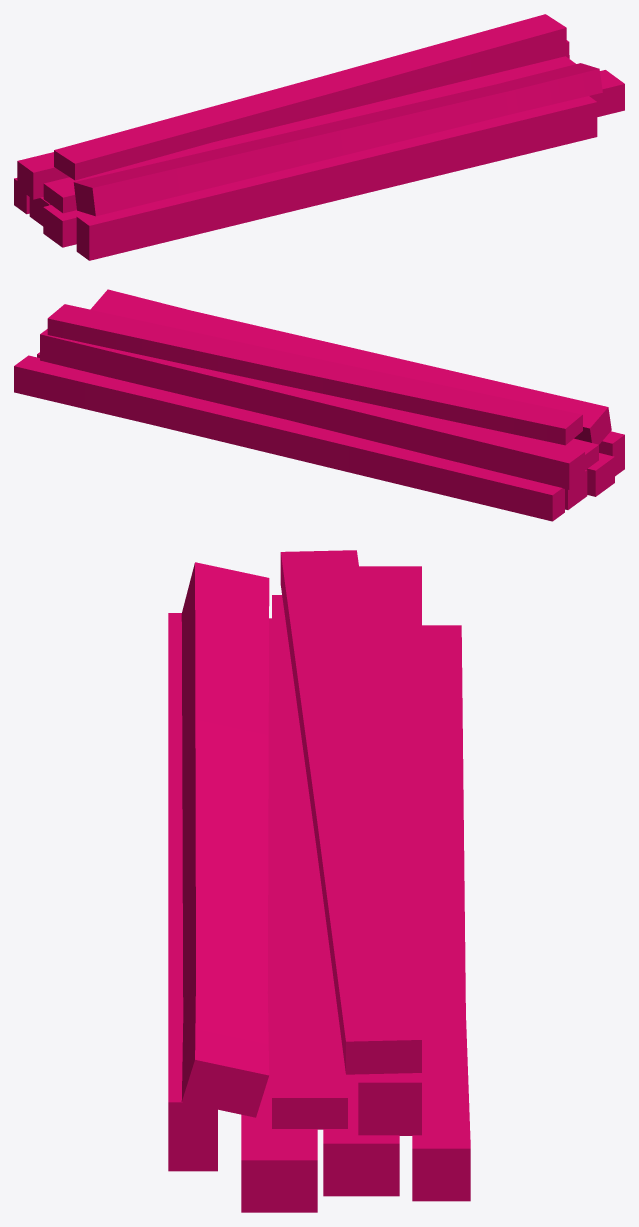
Rendered from Wood_W_Pile_03_Lod0.fbx.
The picture shows the model from 3 angles, top to bottom: view 1: azimuth 30°, elevation 25°; view 2: azimuth 150°, elevation 25°; view 3: azimuth 270°, elevation 25°; orthographic projection. The views are drawn at different scales.
Visible parts, largest first — view 1: Wood_W_Pile_03_Lod0; view 2: Wood_W_Pile_03_Lod0; view 3: Wood_W_Pile_03_Lod0.
Boxes of the visible parts, <box> form: Wood_W_Pile_03_Lod0: <box>14,14,624,260</box>; Wood_W_Pile_03_Lod0: <box>14,289,624,521</box>; Wood_W_Pile_03_Lod0: <box>168,550,470,1212</box>.
Size of the model in its own units: 314 by 38.78 by 74.03.
